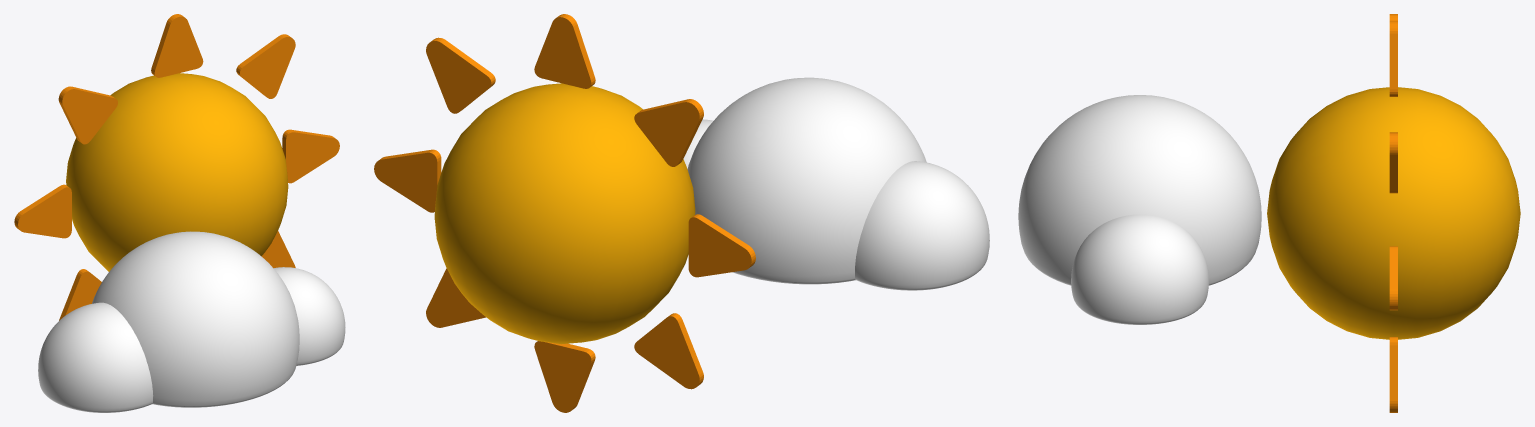
The model's file is sun_behind_small_cloud.glb.
3 views of the same model, side by side, from view 1: azimuth 30°, elevation 25°; view 2: azimuth 150°, elevation 25°; view 3: azimuth 270°, elevation 25° (orthographic). The views are drawn at different scales.
Parts seen in each view (by area): view 1: Cube.202; view 2: Cube.202; view 3: Cube.202.
Boxes of the visible parts, x1,y1,x2,y2 form: Cube.202: (14, 14, 345, 412); Cube.202: (374, 14, 989, 412); Cube.202: (1018, 14, 1520, 412).
Bounding box in the file's own units: 2.5 × 2 × 2.37.
Materials: 1 (1 with a texture image).
